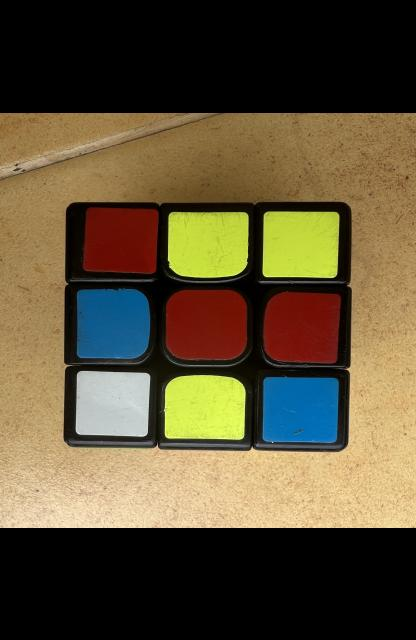Blue: (77, 288, 150, 358), (263, 376, 339, 442)
Red: (166, 289, 247, 359), (263, 291, 340, 362), (83, 206, 158, 272)
White: (76, 370, 150, 436)
Yellow: (168, 211, 249, 277), (164, 374, 245, 439), (263, 211, 339, 277)
